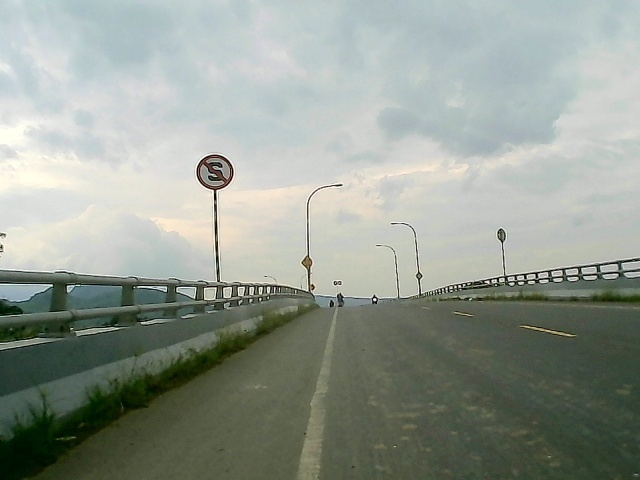Dilarang berhenti: (196, 154, 236, 192)
